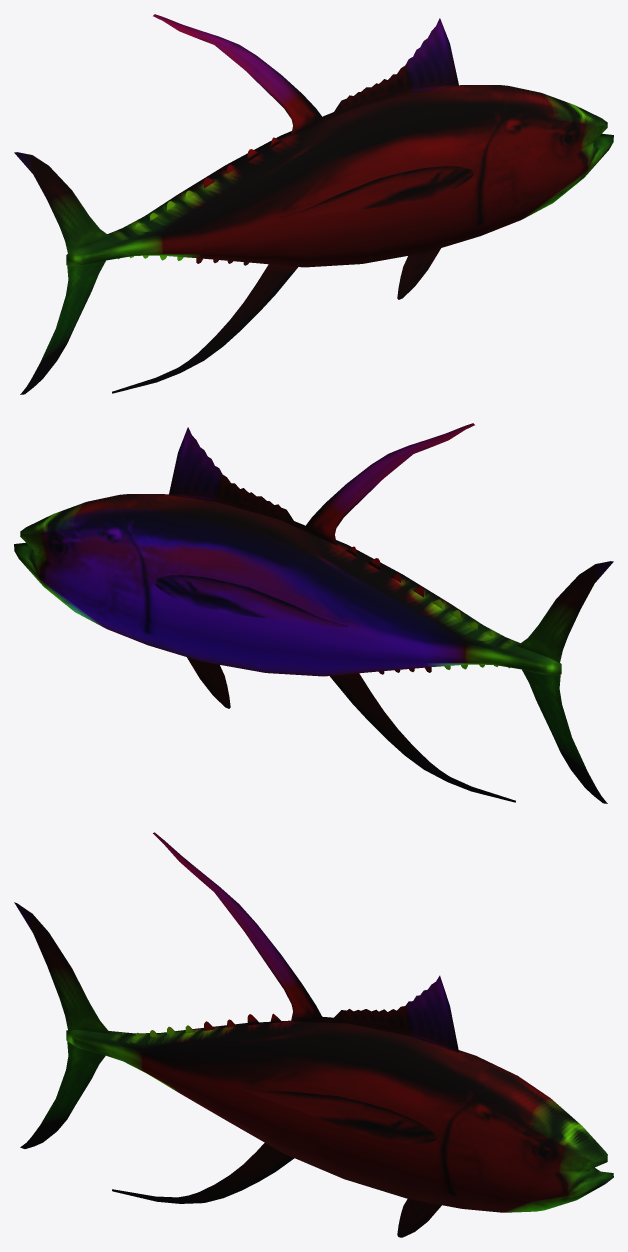
The model's file is yellowfin_tuna.glb.
3 views of the same model, one above another, from view 1: azimuth 30°, elevation 25°; view 2: azimuth 150°, elevation 25°; view 3: azimuth 330°, elevation 25° (orthographic).
Visible parts, largest first — view 1: YellowfinTuna; view 2: YellowfinTuna; view 3: YellowfinTuna.
Boxes of the visible parts, box(x1,y1,x2,y2) form: YellowfinTuna: box(14, 14, 613, 394); YellowfinTuna: box(14, 423, 613, 803); YellowfinTuna: box(14, 832, 613, 1237).
Bounding box in the file's own units: 1 × 0.5883 × 0.1311.
1 material, 1 textured.
